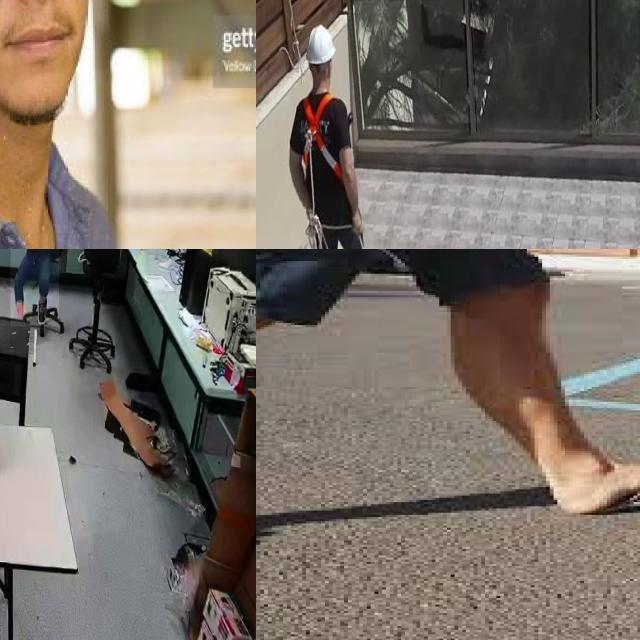Harness: (299, 93, 342, 180)
Sandals: (538, 457, 640, 511)
face_nomask: (0, 0, 86, 115)
person: (10, 249, 59, 327)
shoes: (35, 300, 49, 327)
